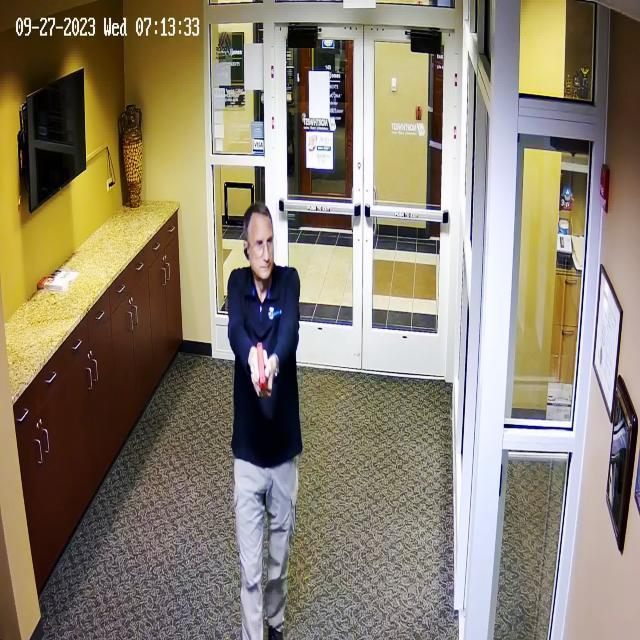Gun: (237, 332, 285, 410)
